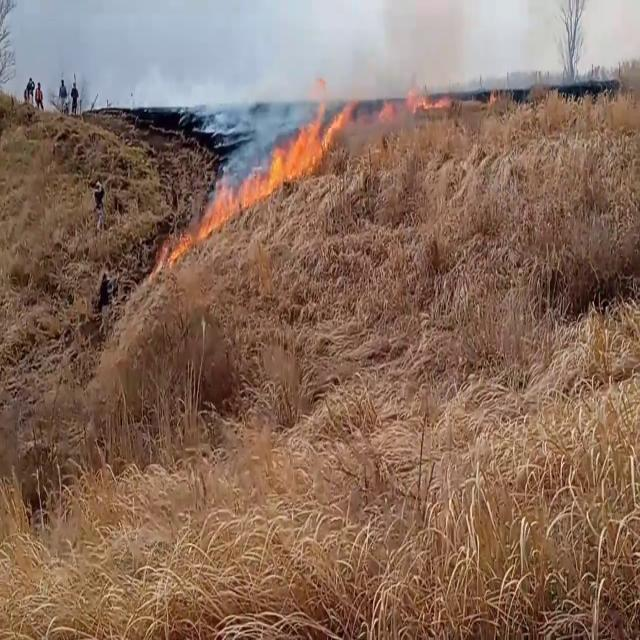Fire: (264, 86, 348, 192), (179, 186, 234, 252), (399, 65, 439, 113)
